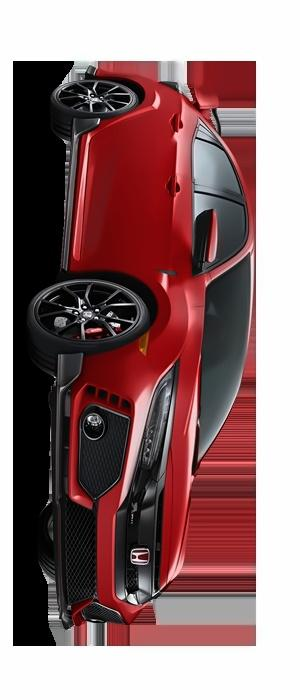Car hood: (156, 306, 205, 595)
Driver-s door - -F-R-: (76, 176, 252, 268)
Fender - -F-R-: (60, 265, 216, 370)
Fender - -R-R-: (77, 87, 193, 126)
Front bumper: (45, 346, 144, 641)
Headlight - -L-: (115, 579, 162, 616)
Headlight - -R-: (128, 352, 182, 477)
Passenger-s door - -R-R-: (79, 110, 247, 192)
Rear bumper: (68, 60, 139, 92)
Rear light - -R-: (156, 73, 188, 96)
Side bumper - -R-: (57, 116, 99, 280)
Side mirror - -R-: (187, 202, 227, 280)
